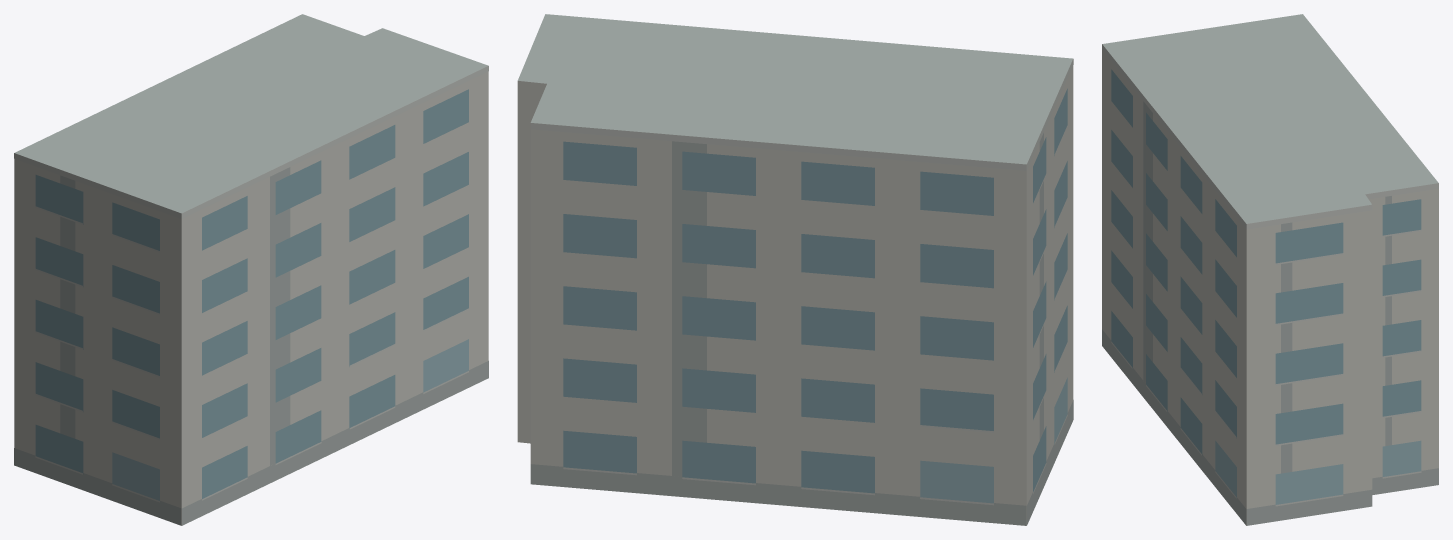
The model's file is survey-upis-32500718.glb.
3 views of the same model, side by side, from view 1: azimuth 30°, elevation 25°; view 2: azimuth 150°, elevation 25°; view 3: azimuth 270°, elevation 25° (orthographic). The views are drawn at different scales.
Visible parts, largest first — view 1: survey-upis-32500718.tmp; view 2: survey-upis-32500718.tmp; view 3: survey-upis-32500718.tmp.
Part boxes in pixels (x1=…): survey-upis-32500718.tmp: x1=14, y1=14, x2=488, y2=525; survey-upis-32500718.tmp: x1=517, y1=14, x2=1073, y2=525; survey-upis-32500718.tmp: x1=1102, y1=14, x2=1438, y2=525.
Size of the model in its own units: 20 by 13.4 by 13.56.
